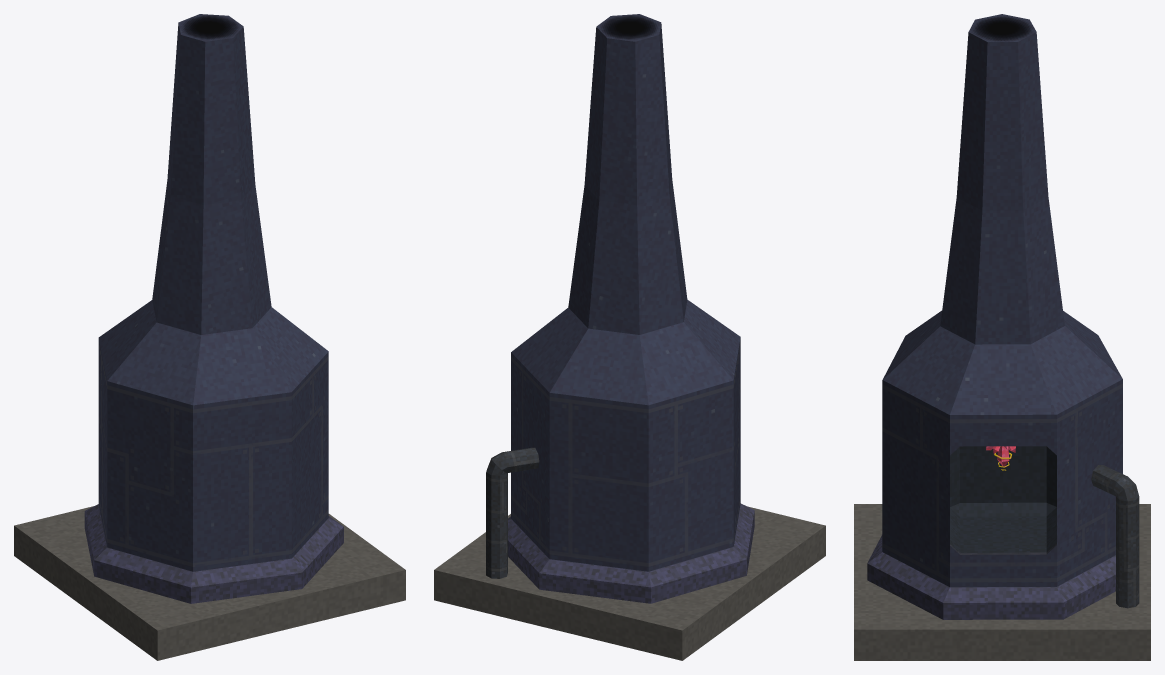
File: Furnace.fbx
3 renders of one model, left to right at view 1: azimuth 30°, elevation 25°; view 2: azimuth 150°, elevation 25°; view 3: azimuth 270°, elevation 25°, orthographic. The views are drawn at different scales.
Visible parts, largest first — view 1: Furnance, Base; view 2: Furnance, Base, Pipe; view 3: Furnance, Base, Pipe.
Boxes of the visible parts, bbox=[...] form: Furnance: bbox=[84, 14, 343, 603]; Base: bbox=[14, 506, 405, 660]; Furnance: bbox=[508, 14, 754, 603]; Base: bbox=[434, 506, 825, 660]; Pipe: bbox=[486, 447, 539, 578]; Furnance: bbox=[867, 14, 1122, 619]; Base: bbox=[854, 504, 1150, 660]; Pipe: bbox=[1091, 465, 1139, 608].
Size of the model in its own units: 176 by 373 by 176.
Materials: 7 (7 with a texture image).
